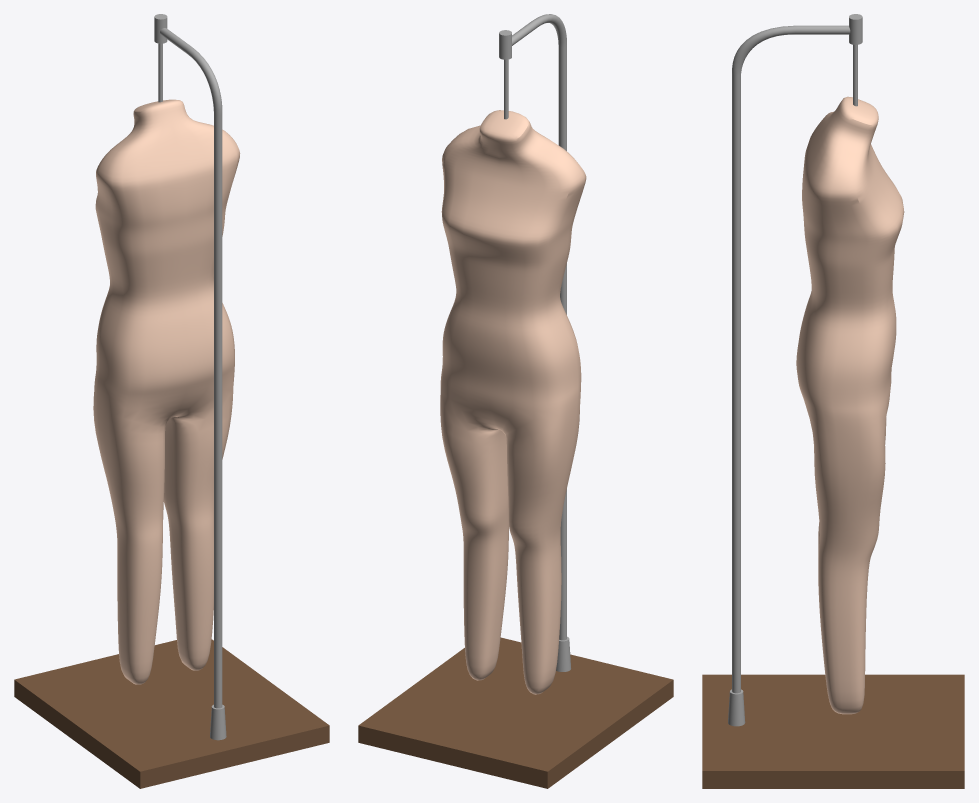
File: mannequin.fbx
3 views of the same model, side by side, from view 1: azimuth 30°, elevation 25°; view 2: azimuth 150°, elevation 25°; view 3: azimuth 270°, elevation 25° (orthographic). The views are drawn at different scales.
Parts seen in each view (by area): view 1: Cube; view 2: Cube; view 3: Cube.
Part boxes in pixels (x1,y1,x2,y2): Cube: [14, 14, 329, 788]; Cube: [358, 14, 673, 788]; Cube: [702, 14, 964, 788].
Bounding box in the file's own units: 280 × 980 × 322.
Materials: 1 (1 with a texture image).
